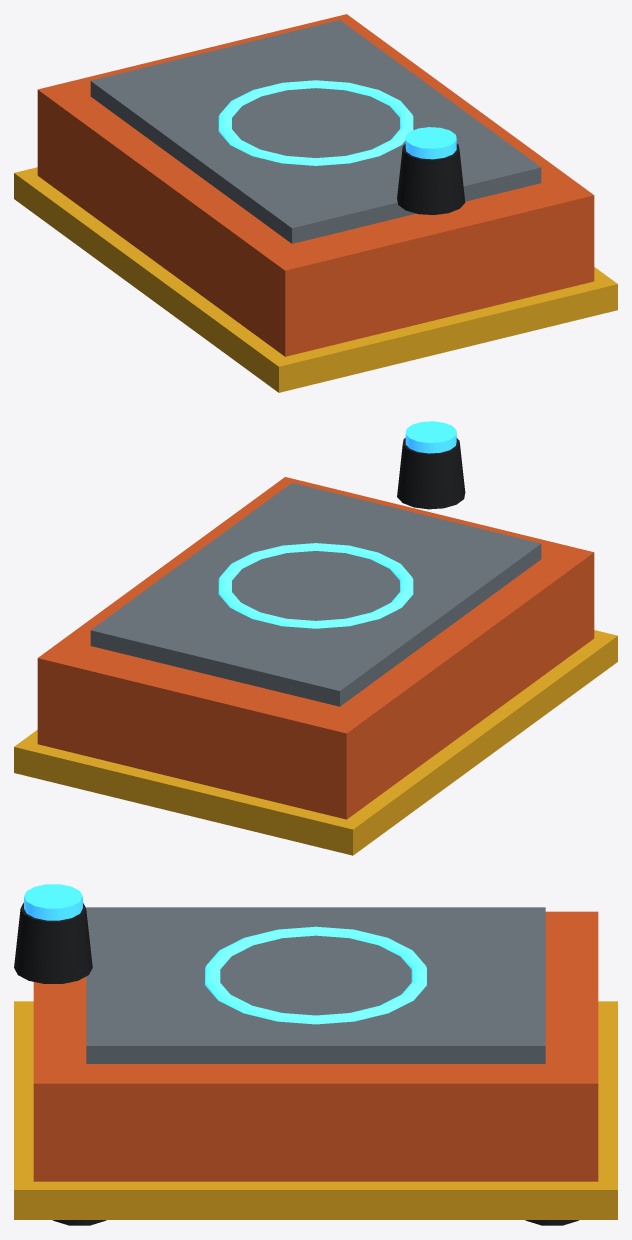
Rendered from equipment--amrRobot.glb.
3 views of the same model, one above another, from view 1: azimuth 30°, elevation 25°; view 2: azimuth 150°, elevation 25°; view 3: azimuth 270°, elevation 25° (orthographic). The views are drawn at different scales.
Parts seen in each view (by area): view 1: amrRobot:shell, liftPlate, lidar, statusRing; view 2: amrRobot:shell, liftPlate, lidar, statusRing; view 3: amrRobot:shell, liftPlate, lidar, statusRing.
Part boxes in pixels (x1=…): amrRobot:shell: x1=14, y1=14, x2=617, y2=392; liftPlate: x1=90, y1=20, x2=541, y2=243; lidar: x1=397, y1=127, x2=465, y2=214; statusRing: x1=218, y1=80, x2=413, y2=165; amrRobot:shell: x1=14, y1=477, x2=617, y2=855; liftPlate: x1=90, y1=483, x2=541, y2=706; lidar: x1=397, y1=421, x2=465, y2=509; statusRing: x1=218, y1=543, x2=413, y2=628; amrRobot:shell: x1=14, y1=911, x2=617, y2=1225; liftPlate: x1=86, y1=907, x2=545, y2=1063; lidar: x1=14, y1=884, x2=92, y2=983; statusRing: x1=205, y1=926, x2=426, y2=1024.
Size of the model in its own units: 0.68 by 0.41 by 0.92.
